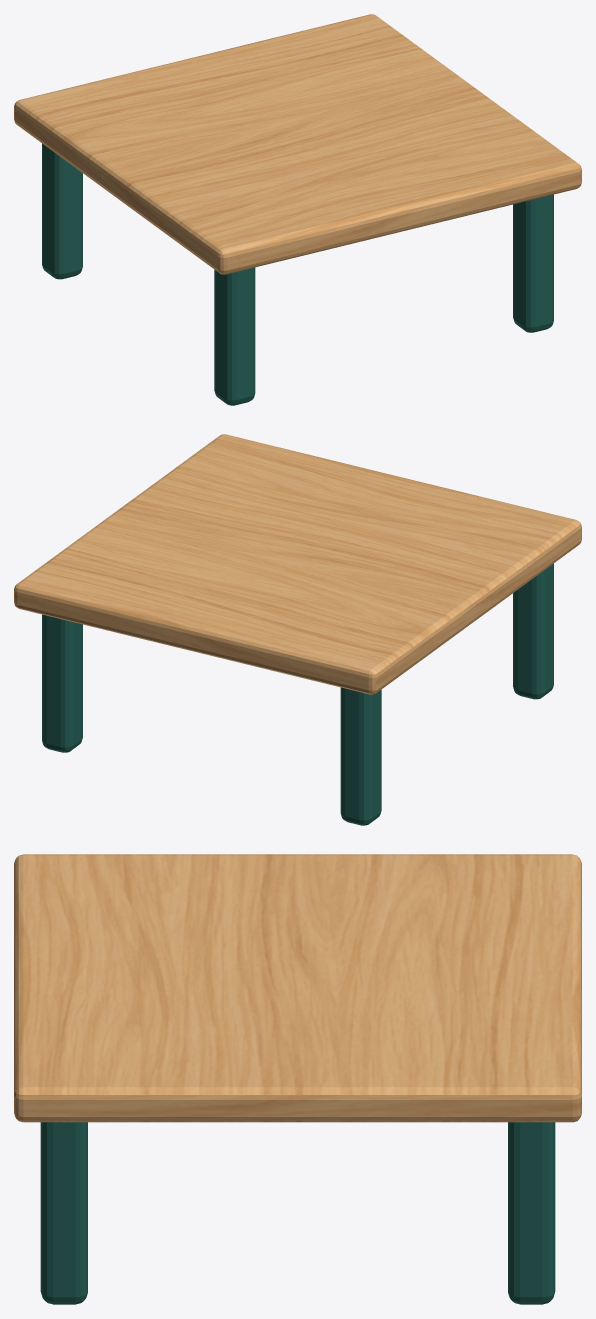
The model's file is water_support.glb.
The picture shows the model from 3 angles, top to bottom: view 1: azimuth 30°, elevation 25°; view 2: azimuth 150°, elevation 25°; view 3: azimuth 270°, elevation 25°; orthographic projection. The views are drawn at different scales.
Parts seen in each view (by area): view 1: water_support; view 2: water_support; view 3: water_support.
Boxes of the visible parts, left/top/right/bottom form: water_support: left=14, top=14, right=581, bottom=405; water_support: left=14, top=434, right=581, bottom=825; water_support: left=14, top=854, right=581, bottom=1304.
Bounding box in the file's own units: 0.9 × 0.4 × 0.9.
Materials: 2 (1 with a texture image).
